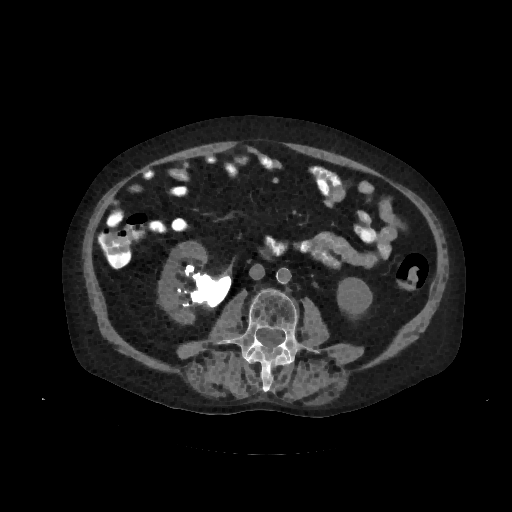Lesion: (175, 261, 236, 310)
